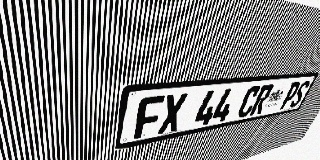4: (193, 89, 222, 127), (210, 88, 238, 124)
C: (236, 85, 262, 118)
F: (134, 95, 165, 139)
P: (278, 81, 302, 110)
R: (249, 84, 275, 116)
S: (288, 80, 311, 108)
X: (157, 93, 188, 134)
